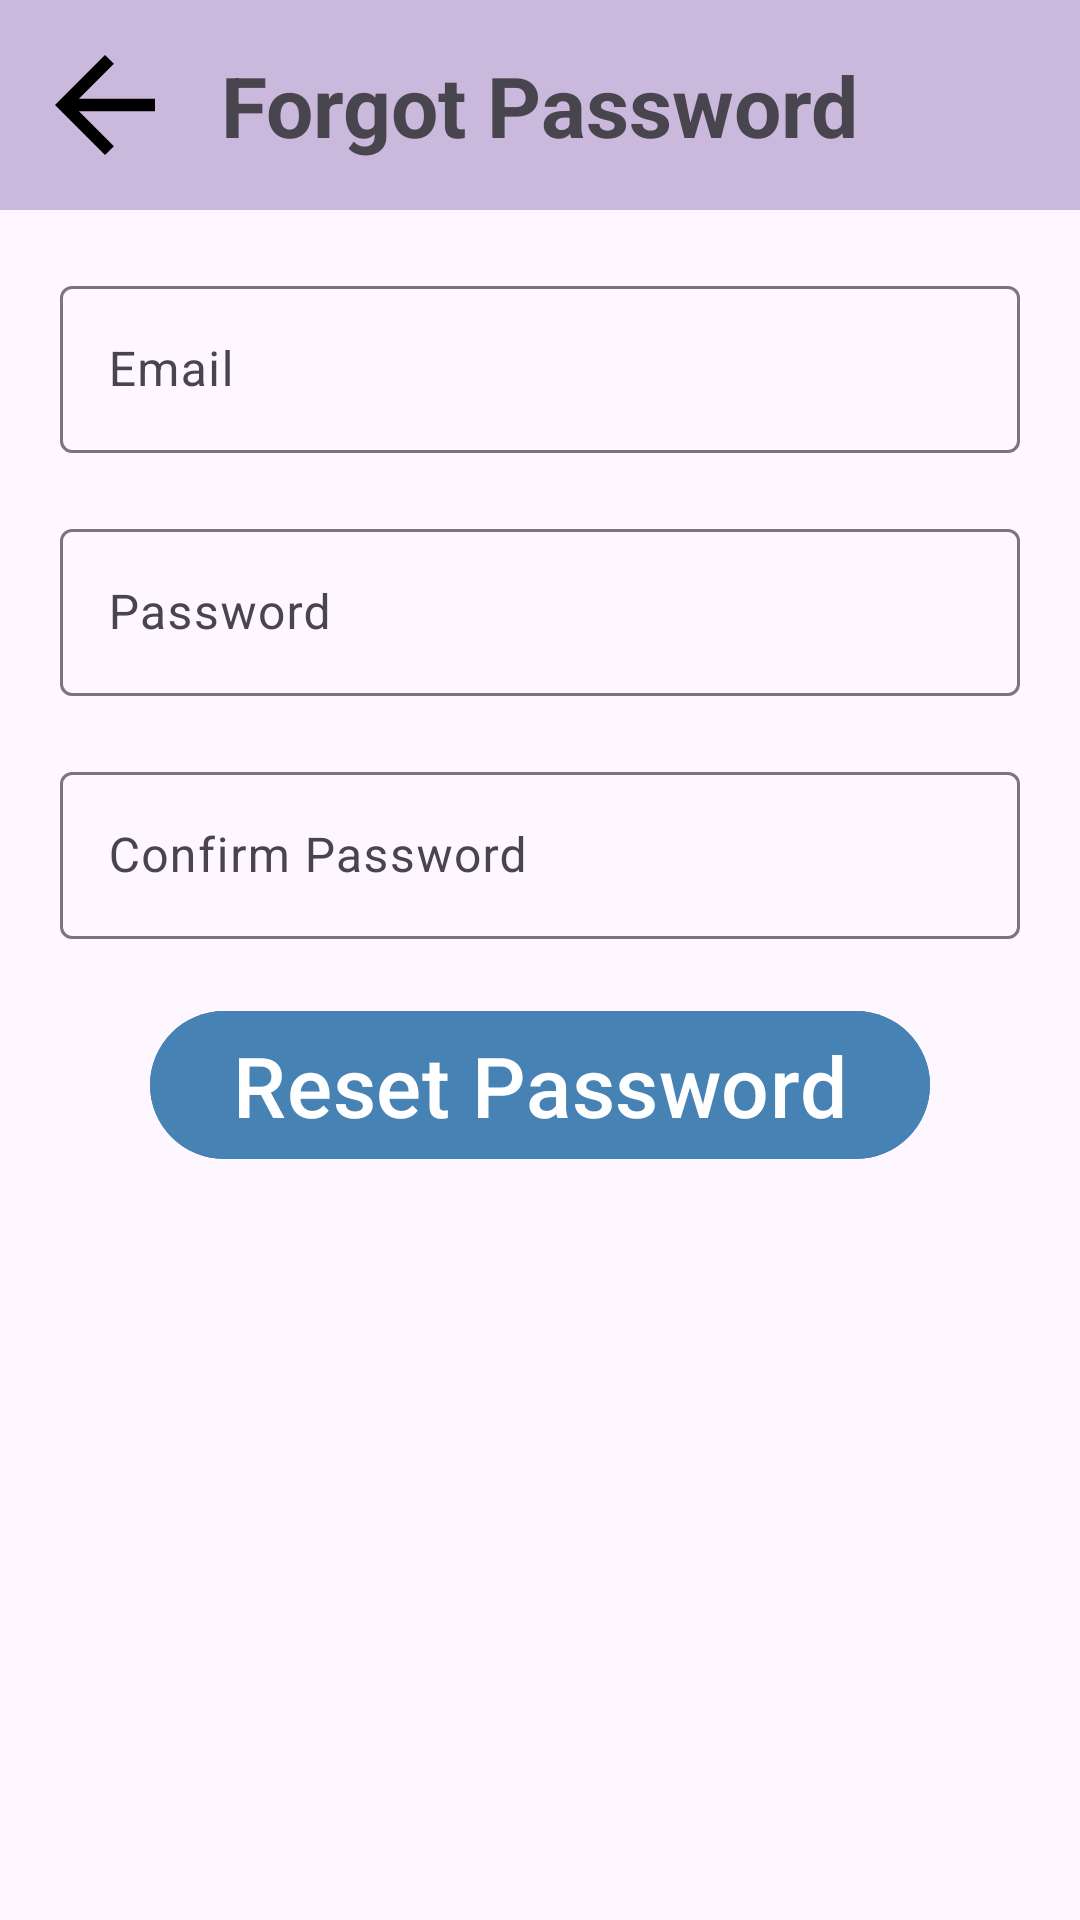

Named icons in this screenshot (1080*1920) and their centers, (x,y):
back: (105,105)
